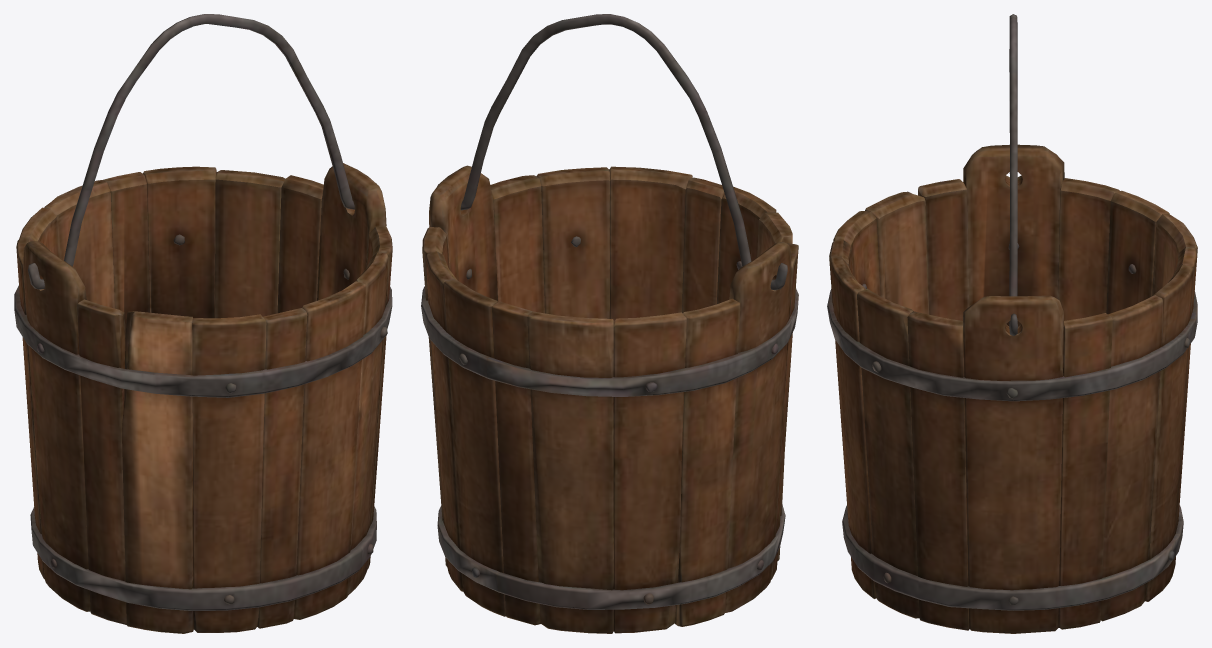
File: bucket.glb
3 views of the same model, side by side, from view 1: azimuth 30°, elevation 25°; view 2: azimuth 150°, elevation 25°; view 3: azimuth 270°, elevation 25° (orthographic).
Visible parts, largest first — view 1: wooden_bucket_01, wooden_bucket_01_handle; view 2: wooden_bucket_01, wooden_bucket_01_handle; view 3: wooden_bucket_01, wooden_bucket_01_handle.
Part boxes in pixels (<box>): wooden_bucket_01: <box>14,163,392,633</box>; wooden_bucket_01_handle: <box>28,14,376,289</box>; wooden_bucket_01: <box>421,165,798,633</box>; wooden_bucket_01_handle: <box>437,14,787,290</box>; wooden_bucket_01: <box>827,144,1197,633</box>; wooden_bucket_01_handle: <box>1009,14,1017,335</box>.
Size of the model in its own units: 0.367 by 0.5499 by 0.3419.
1 material, 1 textured.
